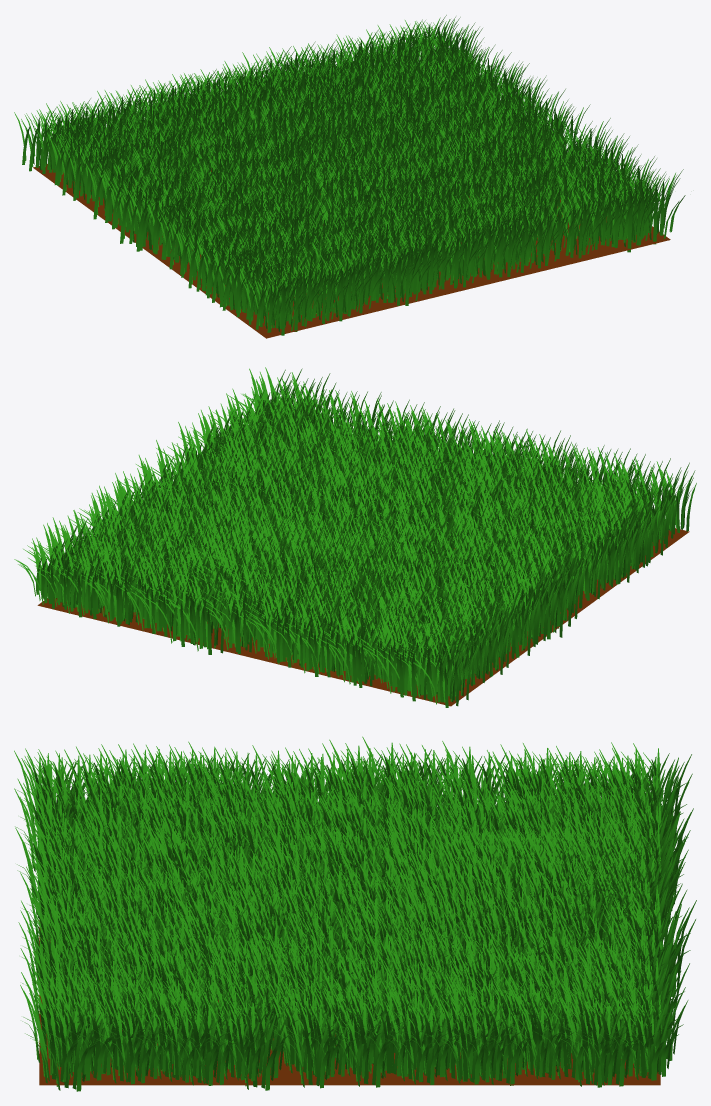
File: Susahara.fbx
The picture shows the model from 3 angles, top to bottom: view 1: azimuth 30°, elevation 25°; view 2: azimuth 150°, elevation 25°; view 3: azimuth 270°, elevation 25°; orthographic projection. The views are drawn at different scales.
Visible parts, largest first — view 1: 平面.007, 平面.007|平面.008|Dupli|1552, 平面.007|平面.008|Dupli|1568, 平面.007|平面.008|Dupli|1352, 平面.007|平面.008|Dupli|447, 平面.007|平面.008|Dupli|722, 平面.007|平面.008|Dupli|410, 平面.007|平面.008|Dupli|278, 平面.007|平面.008|Dupli|42; view 2: 平面.007, 平面.007|平面.008|Dupli|200, 平面.007|平面.008|Dupli|225, 平面.007|平面.008|Dupli|41, 平面.007|平面.008|Dupli|60, 平面.007|平面.008|Dupli|447, 平面.007|平面.008|Dupli|8, 平面.007|平面.008|Dupli|251, 平面.007|平面.008|Dupli|410, 平面.007|平面.008|Dupli|27, 平面.007|平面.008|Dupli|181, 平面.007|平面.008|Dupli|42 (+8 smaller); view 3: 平面.007, 平面.007|平面.008|Dupli|1629, 平面.007|平面.008|Dupli|1669, 平面.007|平面.008|Dupli|1558, 平面.007|平面.008|Dupli|1661, 平面.007|平面.008|Dupli|26, 平面.007|平面.008|Dupli|1549, 平面.007|平面.008|Dupli|1685, 平面.007|平面.008|Dupli|1751, 平面.007|平面.008|Dupli|1566, 平面.007|平面.008|Dupli|1706, 平面.007|平面.008|Dupli|1615 (+38 smaller).
Part boxes in pixels (x1,y1,x2,y2): 平面.007: (33,142,670,338); 平面.007|平面.008|Dupli|1552: (602,180,654,252); 平面.007|平面.008|Dupli|1568: (628,175,679,244); 平面.007|平面.008|Dupli|1352: (558,202,599,258); 平面.007|平面.008|Dupli|447: (85,156,132,221); 平面.007|平面.008|Dupli|722: (382,240,429,305); 平面.007|平面.008|Dupli|410: (110,175,162,246); 平面.007|平面.008|Dupli|278: (259,273,304,335); 平面.007|平面.008|Dupli|42: (21,114,64,173); 平面.007: (37,528,689,706); 平面.007|平面.008|Dupli|200: (171,577,232,654); 平面.007|平面.008|Dupli|225: (146,572,204,646); 平面.007|平面.008|Dupli|41: (378,629,434,701); 平面.007|平面.008|Dupli|60: (413,639,466,707); 平面.007|平面.008|Dupli|447: (480,583,539,657); 平面.007|平面.008|Dupli|8: (44,545,101,617); 平面.007|平面.008|Dupli|251: (85,559,138,626); 平面.007|平面.008|Dupli|410: (508,559,572,639); 平面.007|平面.008|Dupli|27: (59,548,114,618); 平面.007|平面.008|Dupli|181: (206,590,255,651); 平面.007|平面.008|Dupli|42: (423,634,476,701); 平面.007: (39,856,660,1085); 平面.007|平面.008|Dupli|1629: (225,997,290,1090); 平面.007|平面.008|Dupli|1669: (283,1002,343,1088); 平面.007|平面.008|Dupli|1558: (36,999,102,1091); 平面.007|平面.008|Dupli|1661: (337,997,400,1087); 平面.007|平面.008|Dupli|26: (559,998,622,1087); 平面.007|平面.008|Dupli|1549: (95,1001,153,1084); 平面.007|平面.008|Dupli|1685: (439,1003,496,1084); 平面.007|平面.008|Dupli|1751: (470,993,535,1085); 平面.007|平面.008|Dupli|1566: (30,1003,85,1081); 平面.007|平面.008|Dupli|1706: (384,1002,440,1082); 平面.007|平面.008|Dupli|1615: (172,1002,230,1085).
Size of the model in its own units: 12504 by 2090 by 12469.
